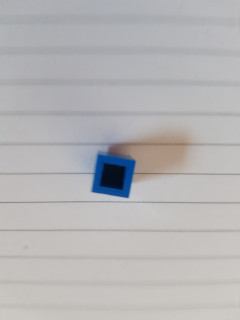1x1 blue: (88, 148, 138, 202)
